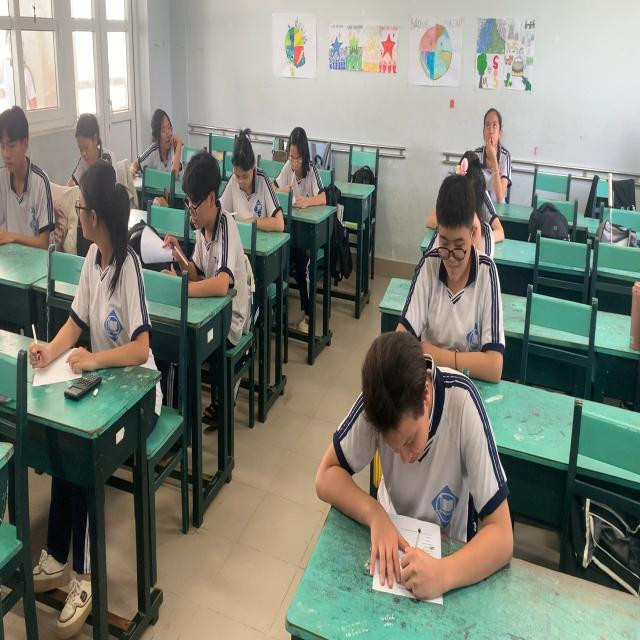cheating: (74, 174, 144, 368), (140, 95, 192, 181)
not_cheating: (346, 308, 452, 511), (0, 92, 55, 257), (275, 108, 336, 231), (178, 158, 235, 289), (439, 163, 492, 299), (71, 107, 137, 213), (229, 128, 290, 240), (463, 101, 516, 201)
